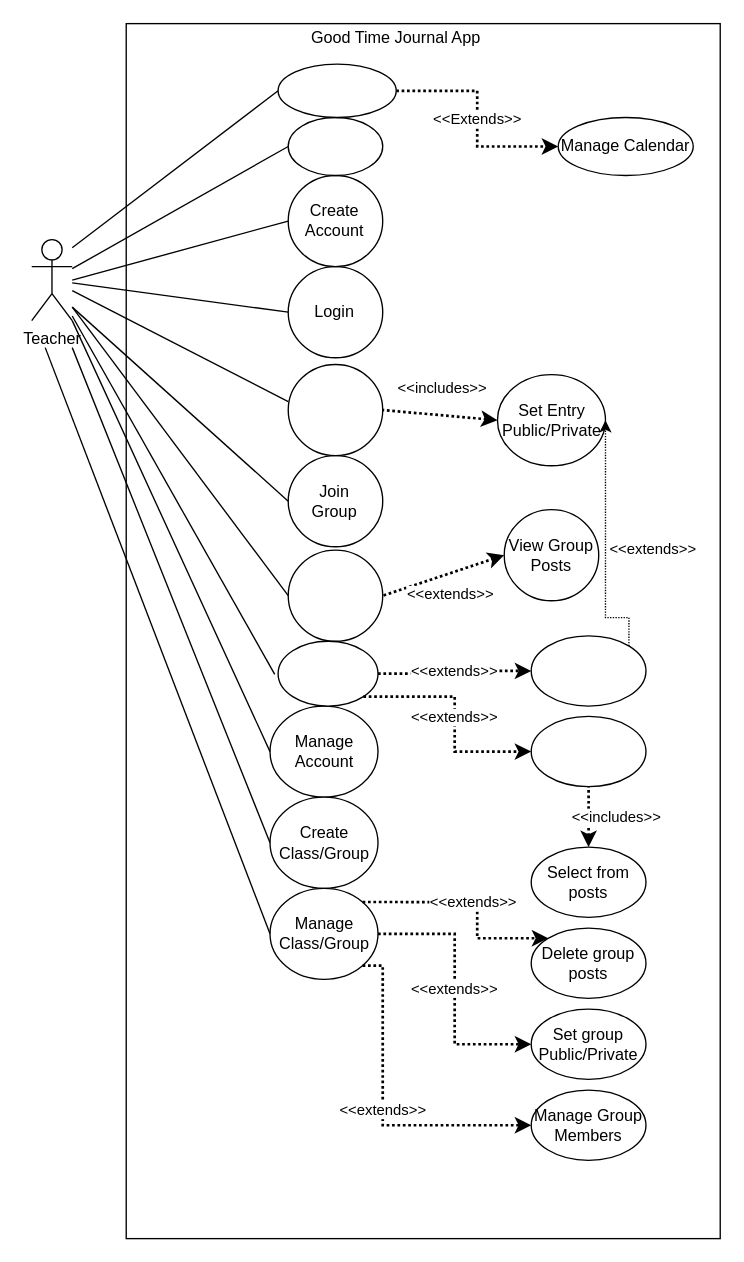
The diagram is 744 pixels wide and 1262 high, and some of its shapes have lost their labels. Here are the shapes that lost their labels. From the top down, the centre of each, then its label:
pixel 336 90: View Calendar
pixel 335 146: Search
pixel 335 409: Create New Entry
pixel 335 595: Select Group
pixel 327 673: View Posts
pixel 588 670: Edit Posts
pixel 588 751: Create PDF
